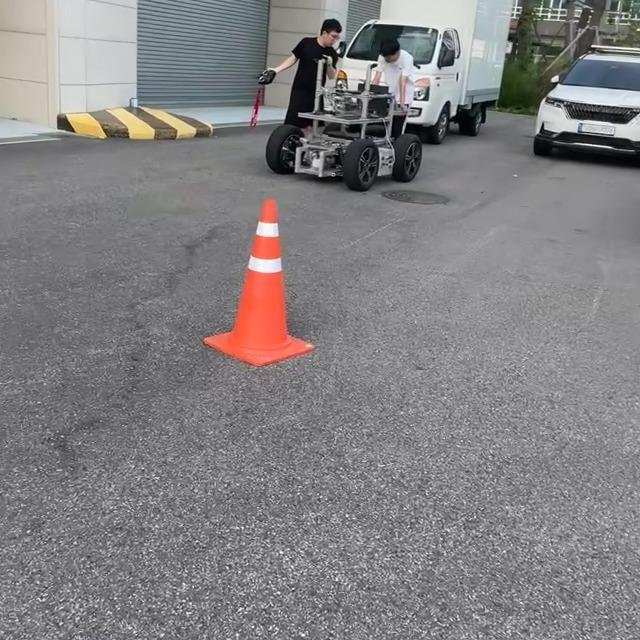fallen_object: (203, 176, 321, 365)
